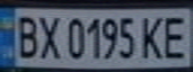0: (63, 13, 84, 60)
1: (81, 15, 103, 60)
5: (118, 14, 139, 61)
9: (100, 13, 121, 60)
B: (9, 11, 42, 60)
E: (160, 11, 193, 61)
K: (136, 12, 169, 60)
X: (36, 11, 63, 60)
